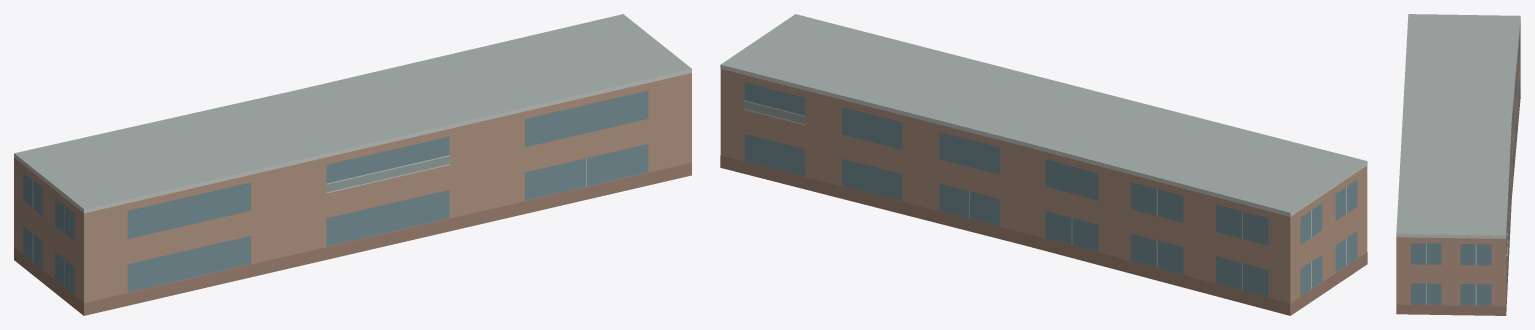
File: survey-upis-32681415.glb
The picture shows the model from 3 angles, left to right: view 1: azimuth 30°, elevation 25°; view 2: azimuth 150°, elevation 25°; view 3: azimuth 270°, elevation 25°; orthographic projection. The views are drawn at different scales.
Visible parts, largest first — view 1: survey-upis-32681415.tmp; view 2: survey-upis-32681415.tmp; view 3: survey-upis-32681415.tmp.
Boxes of the visible parts, x1,y1,x2,y2 form: survey-upis-32681415.tmp: [14, 14, 691, 315]; survey-upis-32681415.tmp: [720, 14, 1367, 315]; survey-upis-32681415.tmp: [1396, 14, 1520, 315].
Bounding box in the file's own units: 36.16 × 6.1 × 8.58.
